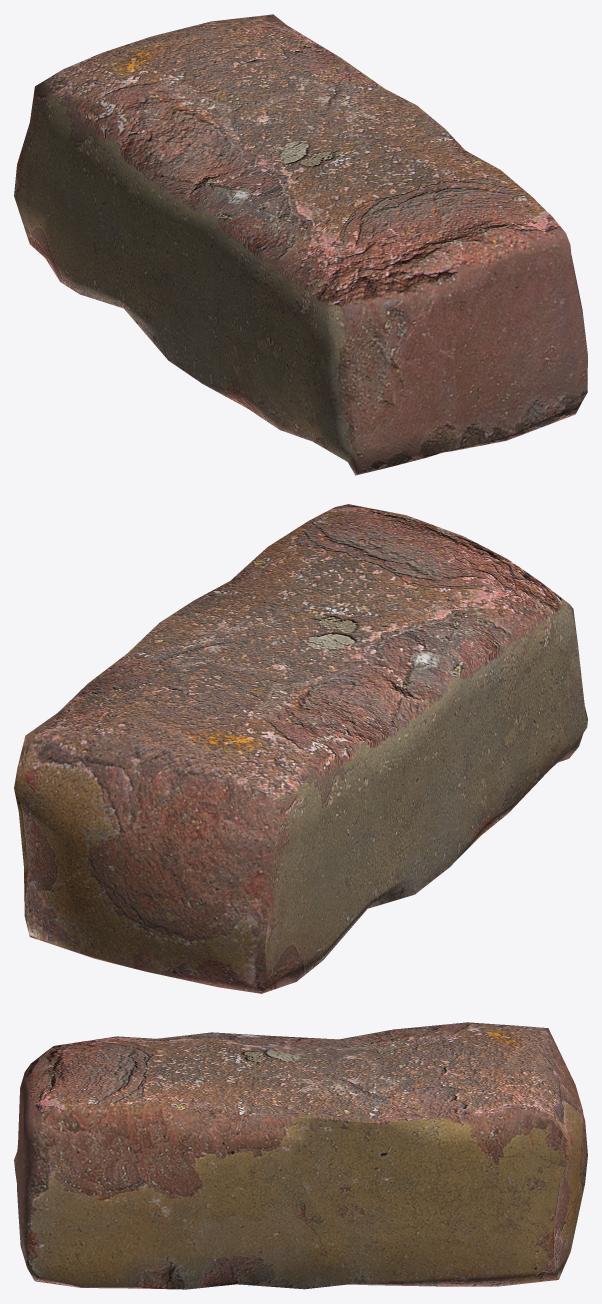
File: sm_Brick_01_02.fbx
The picture shows the model from 3 angles, top to bottom: view 1: azimuth 30°, elevation 25°; view 2: azimuth 150°, elevation 25°; view 3: azimuth 270°, elevation 25°; orthographic projection. The views are drawn at different scales.
Visible parts, largest first — view 1: sm_Brick_01_02_LOD0; view 2: sm_Brick_01_02_LOD0; view 3: sm_Brick_01_02_LOD0.
Part boxes in pixels (box(x1,y1,x2,y2)): sm_Brick_01_02_LOD0: box(14, 14, 587, 475); sm_Brick_01_02_LOD0: box(14, 504, 587, 993); sm_Brick_01_02_LOD0: box(14, 1022, 587, 1289).
Size of the model in its own units: 11.23 by 24.8 by 8.86.
